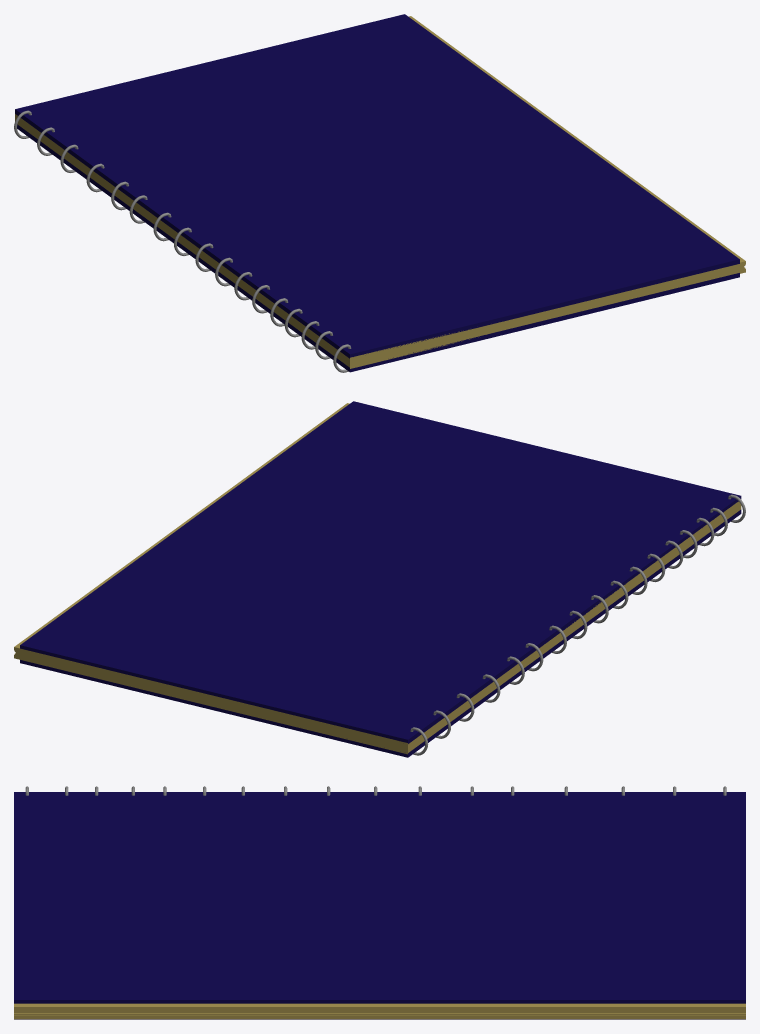
The model's file is Notebook.fbx.
The picture shows the model from 3 angles, top to bottom: view 1: azimuth 30°, elevation 25°; view 2: azimuth 150°, elevation 25°; view 3: azimuth 270°, elevation 25°; orthographic projection. The views are drawn at different scales.
Parts seen in each view (by area): view 1: Cylinder; view 2: Cylinder; view 3: Cylinder.
Boxes of the visible parts, x1,y1,x2,y2 form: Cylinder: [14, 14, 745, 372]; Cylinder: [14, 401, 745, 757]; Cylinder: [14, 786, 745, 1019].
Size of the model in its own units: 224 by 14.47 by 320.
